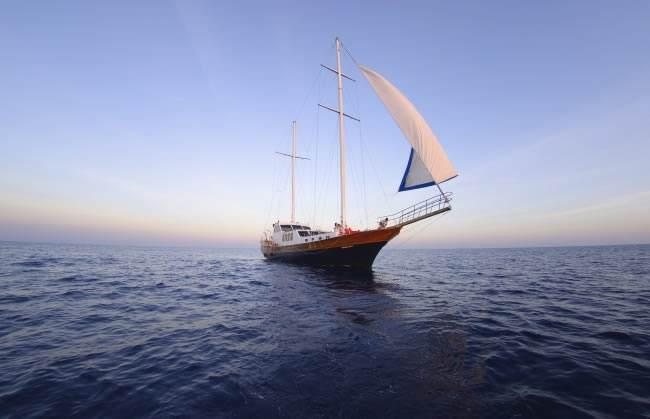fanchuan: (255, 30, 459, 269)
